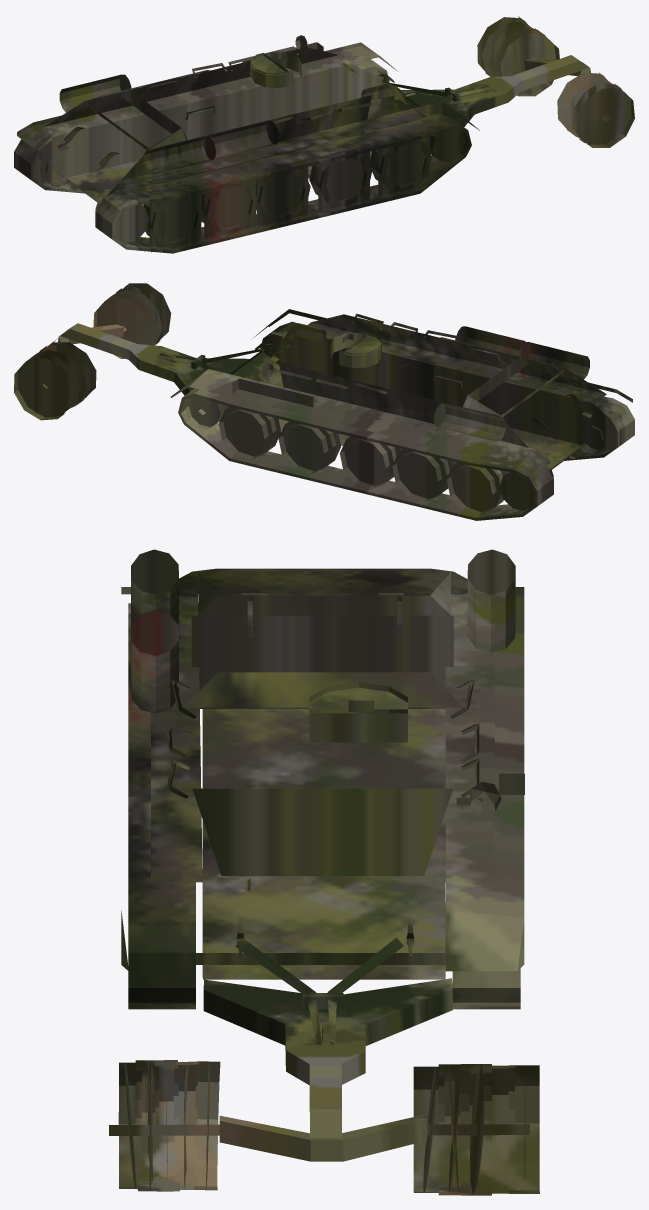
Rendered from mine_roller_pt34.glb.
3 renders of one model, top to bottom at view 1: azimuth 30°, elevation 25°; view 2: azimuth 150°, elevation 25°; view 3: azimuth 270°, elevation 25°, orthographic. The views are drawn at different scales.
Parts seen in each view (by area): view 1: part_26, part_16, part_0, part_18, part_5, part_6, part_2, part_3, part_4, part_24, part_17, part_15 (+3 smaller); view 2: part_26, part_17, part_0, part_18, part_13, part_12, part_10, part_9, part_11, part_24, part_16, part_15 (+3 smaller); view 3: part_26, part_0, part_18, part_24, part_16, part_15, part_17, part_25, part_23.
Boxes of the visible parts, bbox=[...] form: part_26: bbox=[17, 35, 479, 209]; part_16: bbox=[95, 113, 471, 253]; part_0: bbox=[477, 16, 634, 147]; part_18: bbox=[388, 55, 610, 126]; part_5: bbox=[309, 151, 371, 210]; part_6: bbox=[370, 136, 431, 196]; part_2: bbox=[143, 193, 203, 252]; part_3: bbox=[201, 179, 257, 238]; part_4: bbox=[256, 167, 310, 225]; part_24: bbox=[58, 78, 215, 176]; part_17: bbox=[14, 59, 389, 193]; part_15: bbox=[250, 52, 301, 87]; part_26: bbox=[170, 309, 632, 477]; part_17: bbox=[178, 388, 553, 520]; part_0: bbox=[14, 283, 171, 420]; part_18: bbox=[42, 323, 263, 395]; part_13: bbox=[218, 406, 281, 459]; part_12: bbox=[278, 421, 340, 474]; part_10: bbox=[392, 449, 452, 501]; part_9: bbox=[446, 462, 506, 515]; part_11: bbox=[340, 436, 399, 489]; part_24: bbox=[433, 346, 592, 442]; part_16: bbox=[262, 321, 634, 460]; part_15: bbox=[330, 332, 381, 368]; part_26: bbox=[121, 549, 524, 979]; part_0: bbox=[118, 1060, 539, 1195]; part_18: bbox=[109, 937, 529, 1161]; part_24: bbox=[182, 571, 467, 707]; part_16: bbox=[128, 603, 195, 1009]; part_15: bbox=[309, 684, 407, 742]; part_17: bbox=[452, 968, 520, 1009]; part_25: bbox=[309, 682, 407, 709]; part_23: bbox=[193, 568, 452, 571].
Size of the model in its own units: 1 by 0.2106 by 0.3564.
1 material, 1 textured.
